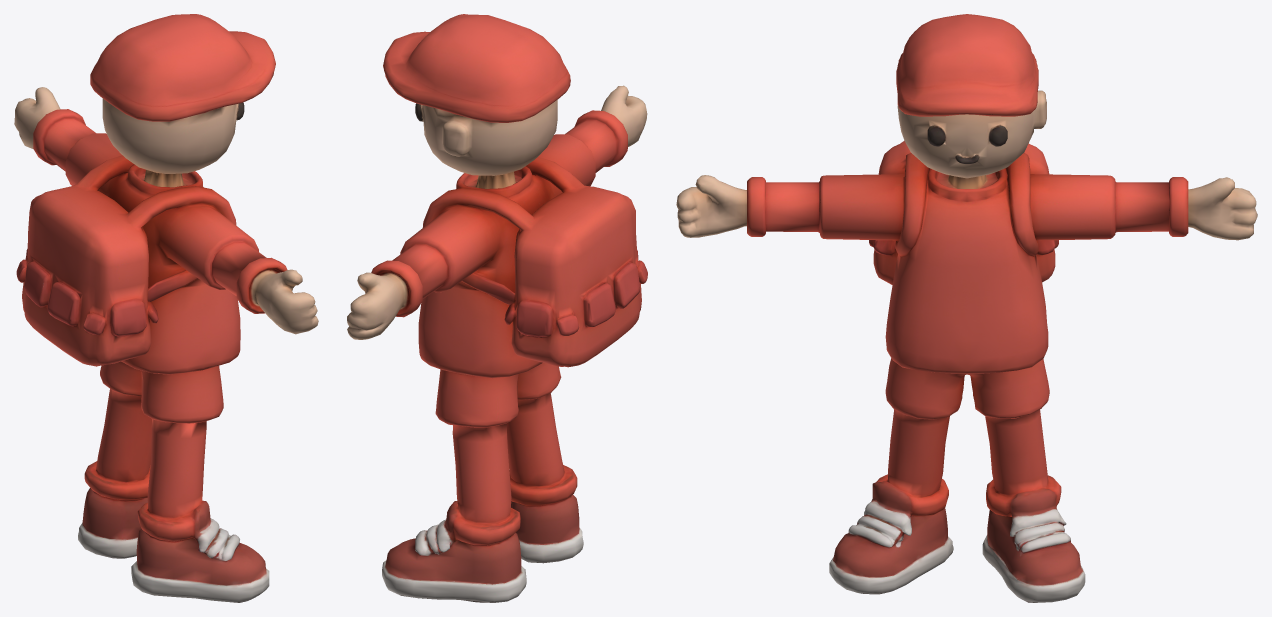
Rendered from passenger_lowpoly.glb.
The picture shows the model from 3 angles, left to right: view 1: azimuth 30°, elevation 25°; view 2: azimuth 150°, elevation 25°; view 3: azimuth 270°, elevation 25°; orthographic projection. The views are drawn at different scales.
Parts seen in each view (by area): view 1: tripo_node_00778078-e998-432b-bc70-c72ee86226c8; view 2: tripo_node_00778078-e998-432b-bc70-c72ee86226c8; view 3: tripo_node_00778078-e998-432b-bc70-c72ee86226c8.
Boxes of the visible parts, left/top/right/bottom form: tripo_node_00778078-e998-432b-bc70-c72ee86226c8: left=14, top=14, right=318, bottom=602; tripo_node_00778078-e998-432b-bc70-c72ee86226c8: left=347, top=14, right=647, bottom=602; tripo_node_00778078-e998-432b-bc70-c72ee86226c8: left=676, top=14, right=1257, bottom=602.
Size of the model in its own units: 0.1096 by 0.25 by 0.2378.
Materials: 1 (1 with a texture image).
